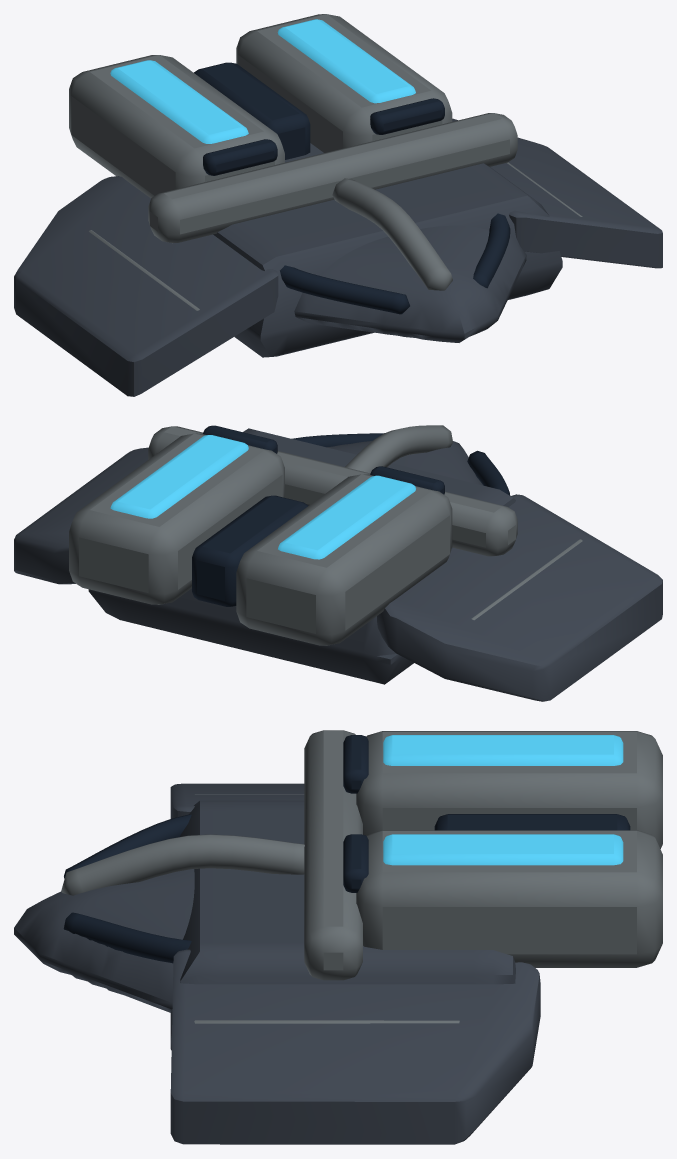
Rendered from twin_panel.glb.
The picture shows the model from 3 angles, top to bottom: view 1: azimuth 30°, elevation 25°; view 2: azimuth 150°, elevation 25°; view 3: azimuth 270°, elevation 25°; orthographic projection. The views are drawn at different scales.
Visible parts, largest first — view 1: wing-1, core, crossbar, keel, house-1, wing1, house1, window-1, window1, ridge, gap, keel_edge-1 (+3 smaller); view 2: wing-1, house-1, house1, core, crossbar, gap, wing1, window-1, window1, ridge, keel, keel_edge-1 (+4 smaller); view 3: wing1, house1, core, house-1, keel, crossbar, ridge, window1, window-1, gap, keel_edge1, wing-1 (+4 smaller).
Boxes of the visible parts, x1,y1,x2,y2 form: wing-1: [14, 176, 278, 396]; core: [213, 143, 562, 357]; crossbar: [148, 113, 517, 243]; keel: [294, 225, 526, 342]; house-1: [69, 55, 284, 198]; wing1: [452, 118, 662, 268]; house1: [236, 14, 452, 152]; window-1: [110, 60, 248, 143]; window1: [277, 19, 415, 103]; ridge: [332, 178, 452, 290]; gap: [194, 62, 310, 159]; keel_edge-1: [280, 265, 409, 314]; wing-1: [377, 494, 662, 701]; house-1: [236, 474, 452, 645]; house1: [69, 433, 284, 604]; core: [88, 428, 515, 684]; crossbar: [148, 426, 517, 556]; gap: [192, 495, 308, 606]; wing1: [14, 447, 148, 584]; window-1: [278, 475, 415, 559]; window1: [110, 435, 248, 518]; ridge: [345, 425, 452, 473]; keel: [327, 440, 482, 485]; keel_edge-1: [467, 450, 510, 495]; wing1: [170, 949, 540, 1144]; house1: [356, 830, 662, 967]; core: [170, 800, 515, 1050]; house-1: [356, 731, 662, 848]; keel: [14, 869, 194, 1012]; crossbar: [304, 730, 362, 980]; ridge: [61, 834, 304, 895]; window1: [383, 834, 623, 865]; window-1: [383, 735, 623, 765]; gap: [434, 814, 630, 830]; keel_edge1: [63, 912, 191, 963]; wing-1: [170, 783, 304, 818].
Bounding box in the file's own units: 23 × 6.62 × 19.9.
